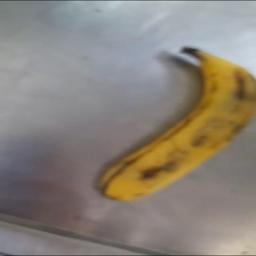Banana Semirotten: (90, 38, 256, 205)
